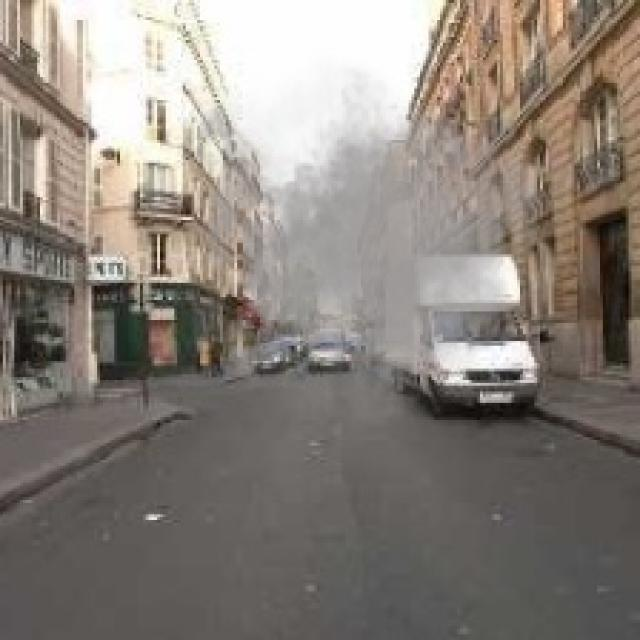Smoke: (182, 46, 548, 440)
